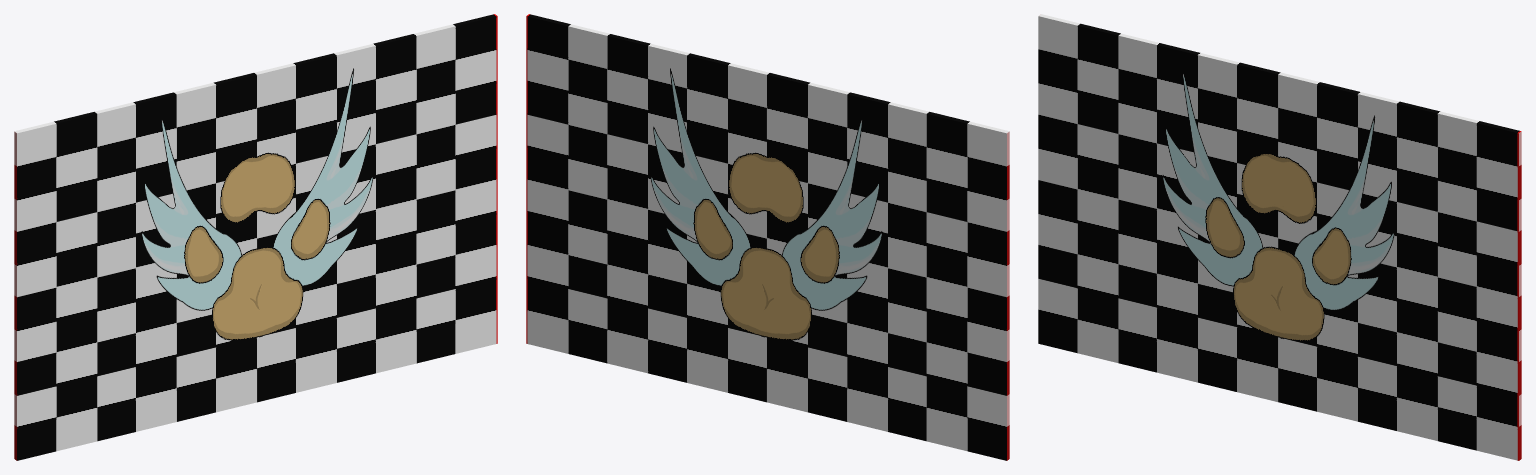
The model's file is FinalFlagTextured.FBX.
3 views of the same model, side by side, from view 1: azimuth 30°, elevation 25°; view 2: azimuth 150°, elevation 25°; view 3: azimuth 330°, elevation 25° (orthographic).
Parts seen in each view (by area): view 1: pCube1; view 2: pCube1; view 3: pCube1.
Boxes of the visible parts, left/top/right/bottom form: pCube1: left=14, top=14, right=497, bottom=460; pCube1: left=526, top=14, right=1009, bottom=460; pCube1: left=1038, top=14, right=1521, bottom=460.
Size of the model in its own units: 0.00986 by 0.000102 by 0.00642.
Materials: 1 (1 with a texture image).
